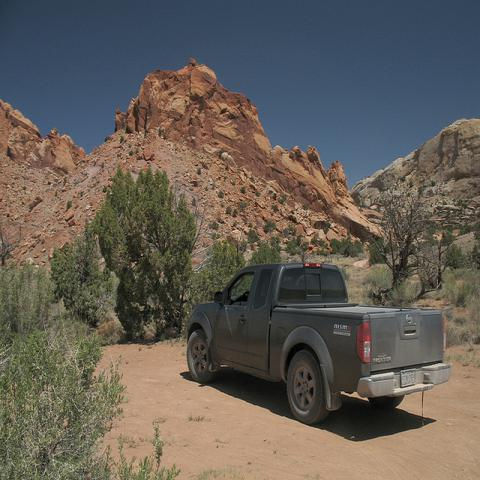truck: (182, 262, 452, 428)
